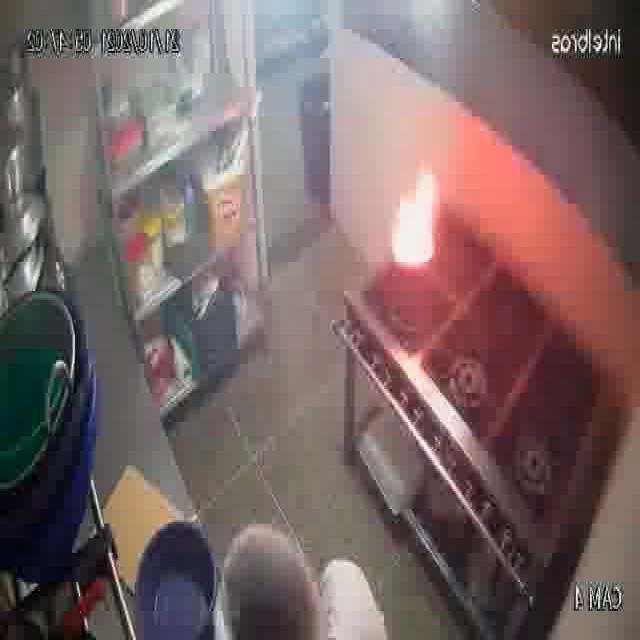Fire: (360, 138, 460, 328)
